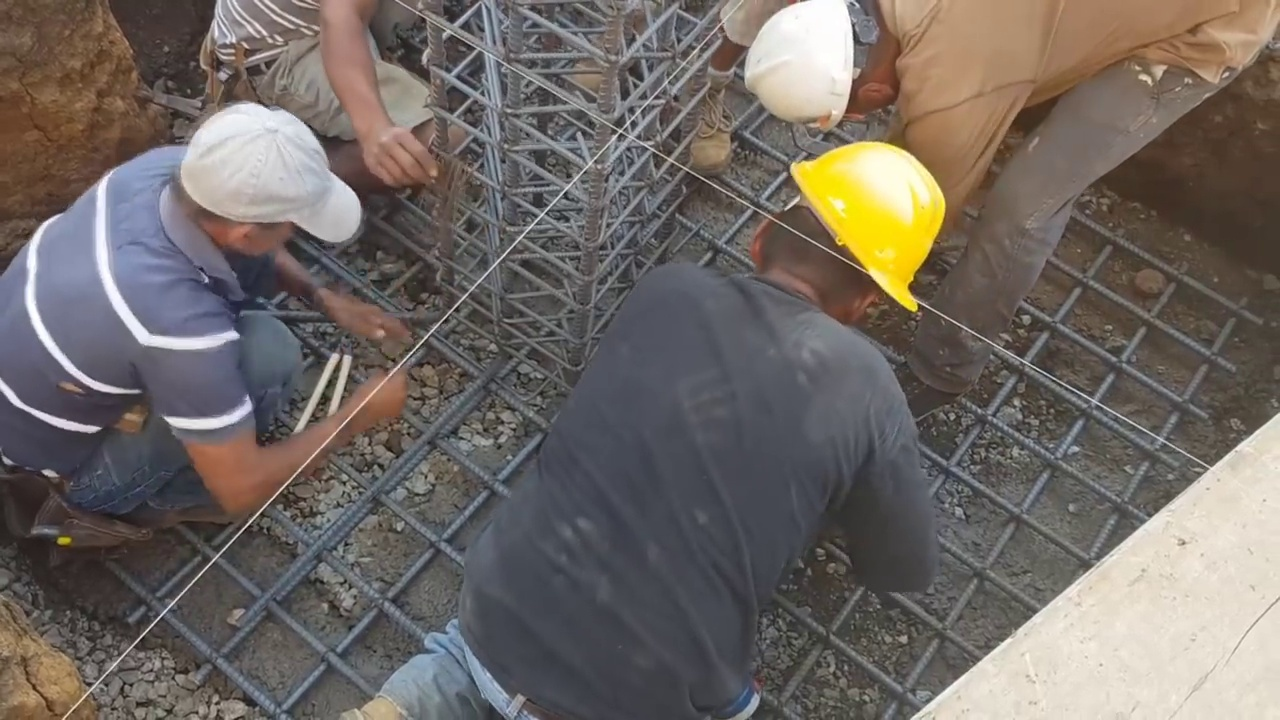helmet: (793, 146, 945, 315), (747, 0, 873, 123)
helmet-off: (170, 100, 368, 273)
helmet-on: (742, 143, 946, 333), (746, 3, 907, 126)
person: (414, 144, 950, 720), (740, 0, 1280, 417), (7, 89, 404, 545), (192, 5, 455, 265)
